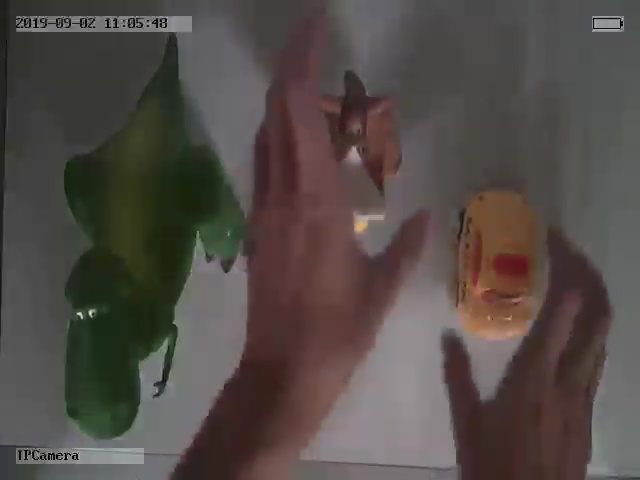car: (451, 184, 535, 341)
rex: (62, 52, 250, 441)
